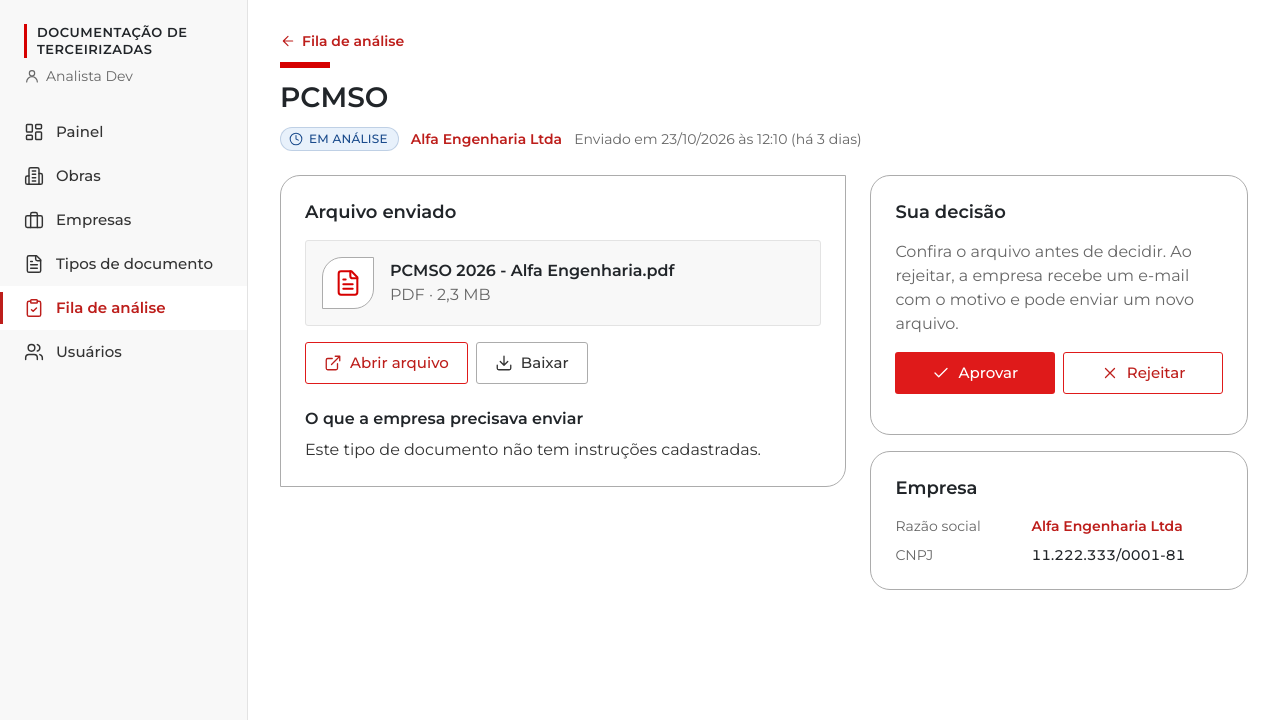
Test case: 403 SEM_PERMISSAO › ao aprovar envio
The width and height of the screenshot is (1280, 720).
Check: the heading "PCMSO" is shown, box [280,80,388,114]
Click the button "Aprovar": (975, 373) [895,352,1055,394]
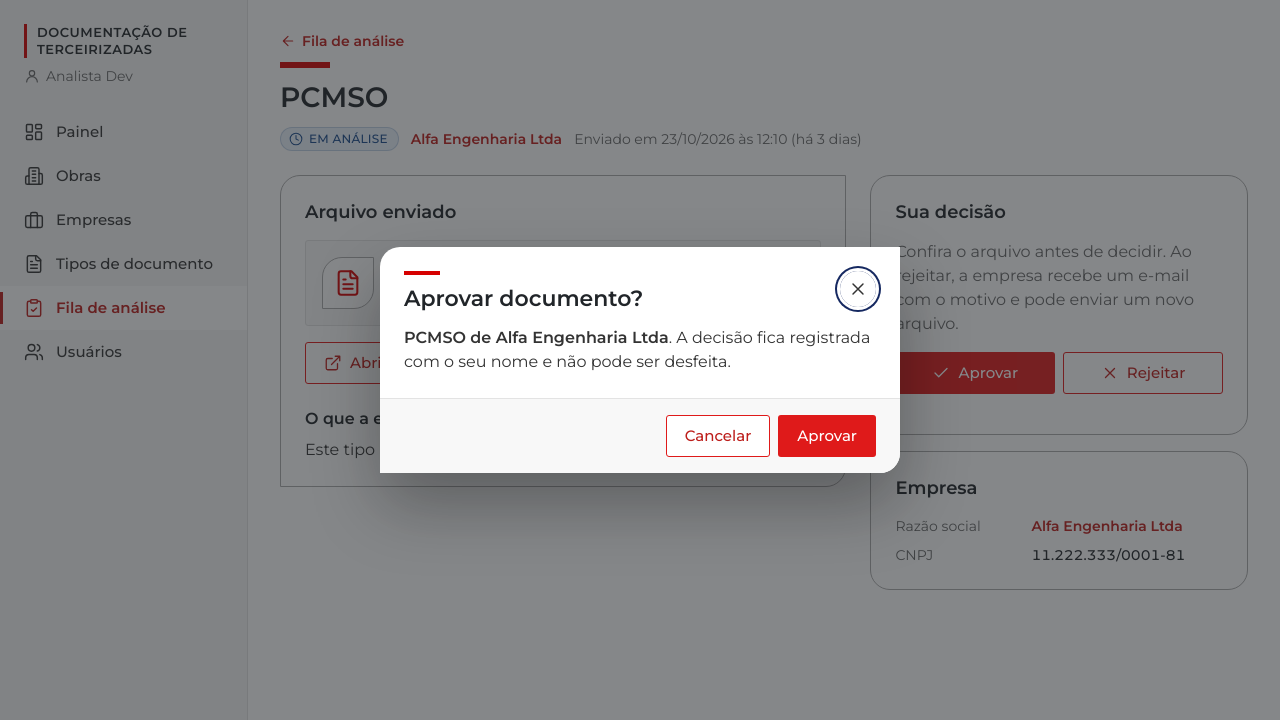
Click the button "Aprovar": (827, 436) [778,415,876,457]
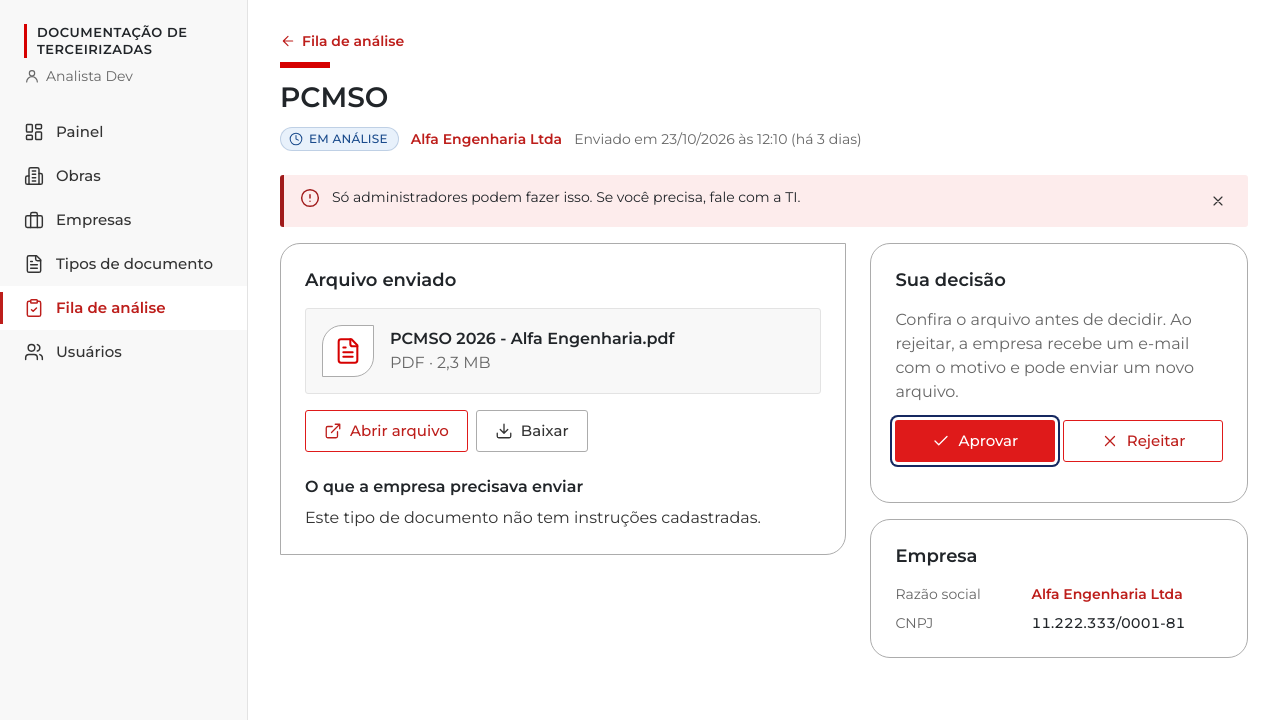
Check: the text "PCMSO 2026 - Alfa Engenharia.pdf" is shown, box [390,327,674,351]
Check: the message reads "Só administradores podem fazer isso. Se você precisa, fale com a TI.", box [332,188,800,206]
Check: the dialog is gone
